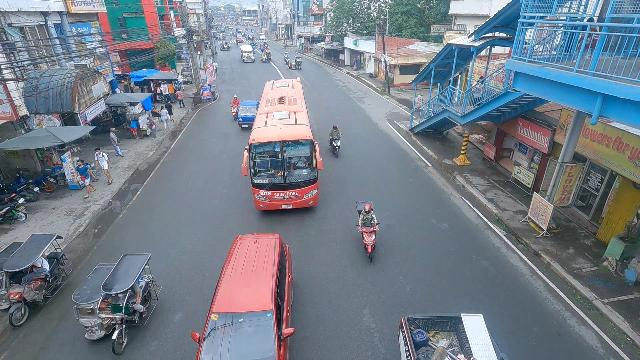bus: (245, 75, 322, 211)
car: (186, 231, 295, 360), (259, 34, 266, 41)
jeepney: (239, 44, 255, 63)
motorcycle: (353, 198, 384, 268), (327, 122, 345, 158), (229, 94, 240, 121), (284, 52, 289, 65), (260, 45, 265, 53)
truck: (238, 97, 262, 130)
